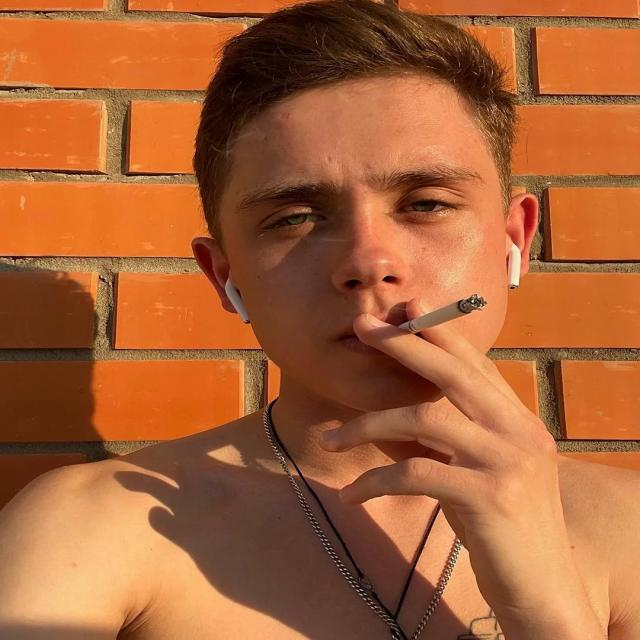smoke: (389, 296, 498, 339)
